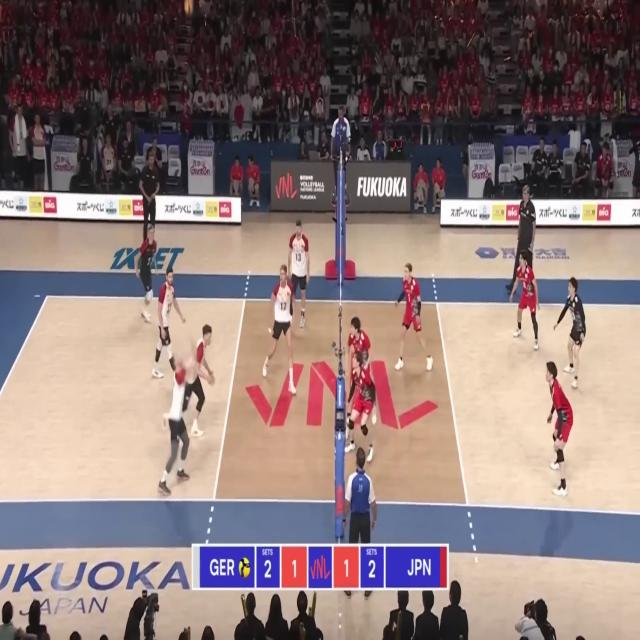referee: (343, 448, 378, 596)
team_one: (262, 264, 297, 396), (161, 356, 192, 494), (152, 268, 187, 382), (183, 323, 216, 442), (288, 220, 312, 328), (138, 224, 160, 325)
team_two: (390, 261, 434, 378), (544, 362, 574, 497), (343, 352, 378, 462), (553, 276, 586, 392), (510, 252, 543, 349), (344, 318, 374, 412)
